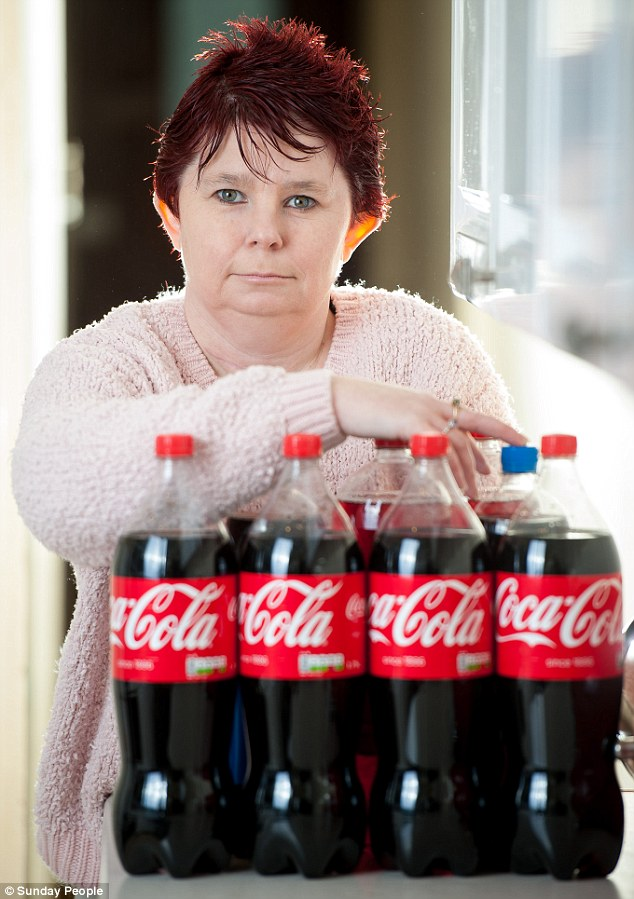coke: (501, 441, 627, 871), (117, 440, 236, 876), (246, 441, 366, 863), (386, 450, 497, 861)
